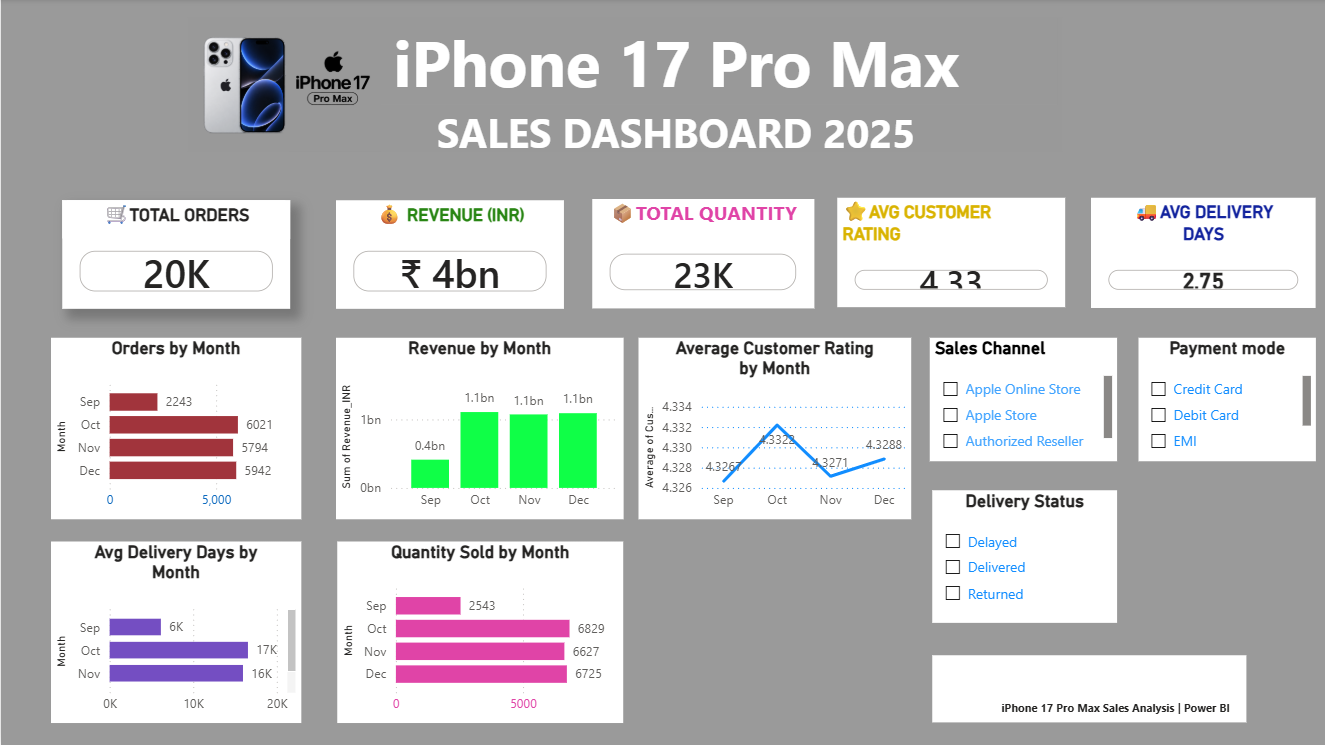

What the dashboard file says about the page in this screenshot:
{"tool":"powerbi","page":{"name":"Page 1","canvas":[1280,720],"ordinal":0},"visuals":[{"type":"textbox","title":"iPhone 17 Pro Max  ","box":[278.7,18.1,745.6,129.1],"z":0},{"type":"cardVisual","title":"🛒TOTAL ORDERS","fields":{"Data":["CountNonNull(Raw_Sales_Data.Order_ID)"]},"box":[59.1,194.2,220,105],"z":1000},{"type":"cardVisual","title":"💰 REVENUE (INR)","fields":{"Data":["Sum(Raw_Sales_Data.Revenue_INR)"]},"box":[323.3,194.2,220,105],"z":2000},{"type":"cardVisual","title":"📦TOTAL QUANTITY","fields":{"Data":["Sum(Raw_Sales_Data.Quantity)"]},"box":[570.6,193,214.1,105.7],"z":3000},{"type":"cardVisual","title":"⭐AVG CUSTOMER RATING","fields":{"Data":["Avg(Raw_Sales_Data.Customer_Rating)"]},"box":[807.1,191.8,220,105.7],"z":4000},{"type":"cardVisual","title":"🚚AVG  DELIVERY DAYS","fields":{"Data":["Avg(Raw_Sales_Data.Delivery_Days)"]},"box":[1052,191.8,217.2,106.2],"z":5000},{"type":"slicer","title":"Sales Channel","fields":{"Values":["Raw_Sales_Data.Sales_Channel"]},"box":[896.4,326.9,181,119.4],"z":6000},{"type":"slicer","title":"Payment mode","fields":{"Values":["Raw_Sales_Data.Payment_Mode"]},"box":[1097.9,326.9,171.3,119.4],"z":7000},{"type":"slicer","title":"Delivery Status","fields":{"Values":["Raw_Sales_Data.Delivery_Status2"]},"box":[898.8,474.1,178.6,127.9],"z":8000},{"type":"barChart","title":"Orders by Month","fields":{"Category":["Raw_Sales_Data.Month"],"Y":["CountNonNull(Raw_Sales_Data.Order_ID)"]},"box":[48.3,326.9,241.3,174.9],"z":9000},{"type":"clusteredColumnChart","title":"Revenue by Month","fields":{"Category":["Raw_Sales_Data.Month"],"Y":["Sum(Raw_Sales_Data.Revenue_INR)"]},"box":[323.3,326.9,277.5,174.9],"z":10000},{"type":"barChart","title":"Quantity Sold by Month","fields":{"Category":["Raw_Sales_Data.Month"],"Y":["Sum(Raw_Sales_Data.Quantity)"]},"box":[324.5,523.6,276.3,174.9],"z":11000},{"type":"lineChart","title":"Average Customer Rating by Month","fields":{"Category":["Raw_Sales_Data.Month"],"Y":["Avg(Raw_Sales_Data.Customer_Rating)"]},"box":[615.3,326.9,263,174.9],"z":12000},{"type":"barChart","title":"Avg Delivery Days  by Month","fields":{"Category":["Raw_Sales_Data.Month"],"Y":["Sum(Raw_Sales_Data.Delivery_Days)"]},"box":[48.3,523.6,241.3,174.9],"z":13000},{"type":"image","box":[179.8,18.1,187,129.1],"z":14000},{"type":"textbox","box":[898.8,633.4,302.8,65.1],"z":14001}]}

Visuals, with their boxes in screenshot pixels (x1, y1, x2, y2), scaled from the page's 1280x720 canvas onto the 1325x745 screenshot:
"iPhone 17 Pro Max  " textbox: detection(288, 19, 1060, 152)
"🛒TOTAL ORDERS" cardVisual: detection(61, 201, 289, 310)
"💰 REVENUE (INR)" cardVisual: detection(335, 201, 562, 310)
"📦TOTAL QUANTITY" cardVisual: detection(591, 200, 812, 309)
"⭐AVG CUSTOMER RATING" cardVisual: detection(835, 198, 1063, 308)
"🚚AVG  DELIVERY DAYS" cardVisual: detection(1089, 198, 1314, 308)
"Sales Channel" slicer: detection(928, 338, 1115, 462)
"Payment mode" slicer: detection(1136, 338, 1314, 462)
"Delivery Status" slicer: detection(930, 491, 1115, 623)
"Orders by Month" barChart: detection(50, 338, 300, 519)
"Revenue by Month" clusteredColumnChart: detection(335, 338, 622, 519)
"Quantity Sold by Month" barChart: detection(336, 542, 622, 723)
"Average Customer Rating by Month" lineChart: detection(637, 338, 909, 519)
"Avg Delivery Days  by Month" barChart: detection(50, 542, 300, 723)
image: detection(186, 19, 380, 152)
textbox: detection(930, 655, 1244, 723)
